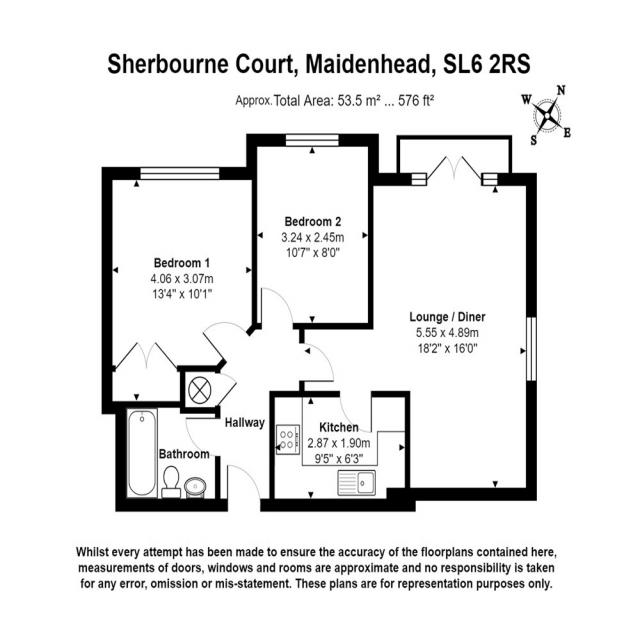DOOR: (200, 320, 251, 364), (224, 461, 263, 512), (184, 416, 221, 458), (339, 390, 373, 434), (260, 286, 294, 330), (299, 342, 335, 383)
DOUBLE DOOR: (426, 154, 482, 186)
ROOM: (299, 154, 538, 512), (101, 166, 258, 415), (251, 133, 379, 330), (269, 390, 416, 513)
WINDOW: (139, 165, 221, 181), (525, 315, 538, 383), (285, 133, 339, 148), (411, 172, 427, 187), (483, 172, 498, 186)
